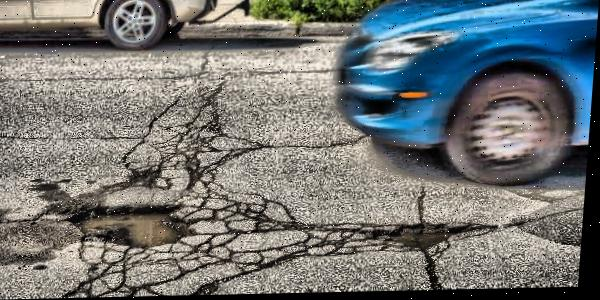pothole: (69, 193, 202, 250), (367, 222, 468, 254)
